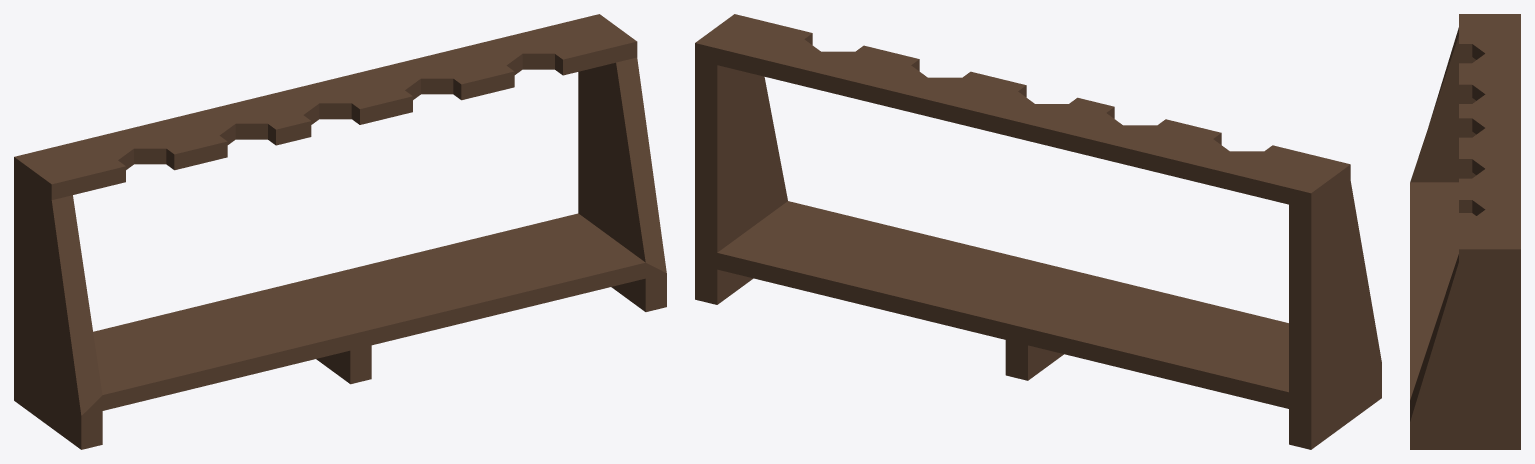
The model's file is SM_Stand_For_Flasks.fbx.
The picture shows the model from 3 angles, left to right: view 1: azimuth 30°, elevation 25°; view 2: azimuth 150°, elevation 25°; view 3: azimuth 270°, elevation 25°; orthographic projection. The views are drawn at different scales.
Parts seen in each view (by area): view 1: SM_Stand_For_Flasks; view 2: SM_Stand_For_Flasks; view 3: SM_Stand_For_Flasks.
Boxes of the visible parts, left/top/right/bottom form: SM_Stand_For_Flasks: left=14, top=14, right=666, bottom=449; SM_Stand_For_Flasks: left=695, top=14, right=1381, bottom=449; SM_Stand_For_Flasks: left=1410, top=14, right=1520, bottom=449.
Bounding box in the file's own units: 33.08 × 13.17 × 6.58.
